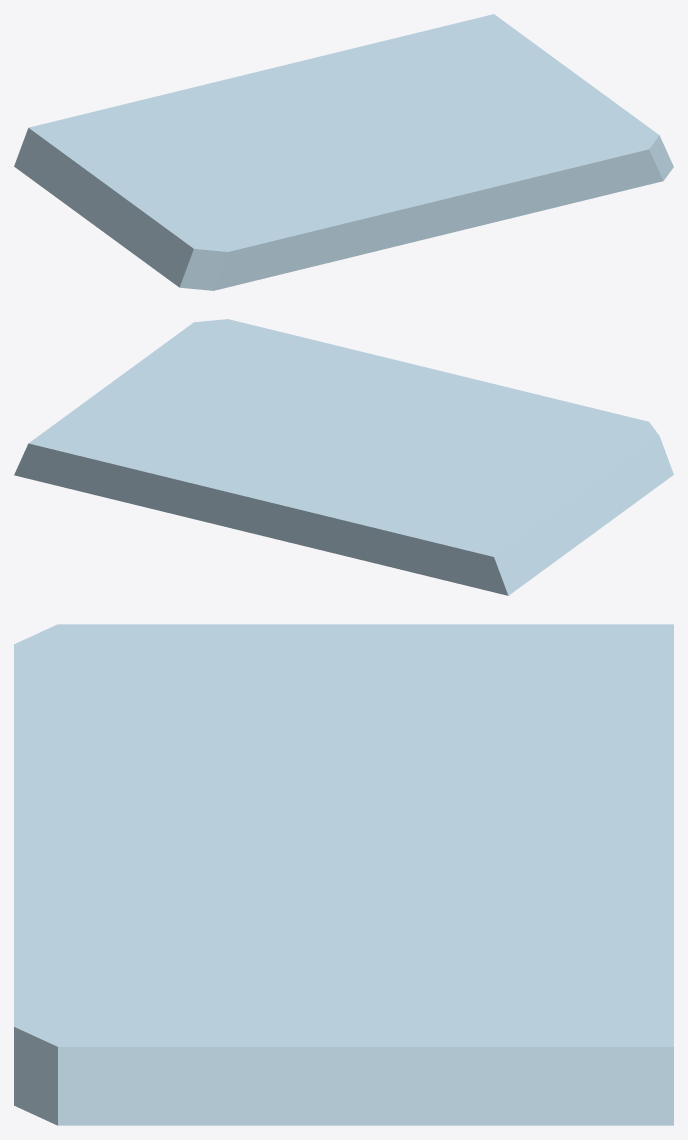
Rendered from STAM - A5.gltf.
3 renders of one model, top to bottom at view 1: azimuth 30°, elevation 25°; view 2: azimuth 150°, elevation 25°; view 3: azimuth 270°, elevation 25°, orthographic. The views are drawn at different scales.
Visible parts, largest first — view 1: A5; view 2: A5; view 3: A5.
Boxes of the visible parts, box(x1,y1,x2,y2) form: A5: box(14, 14, 673, 290); A5: box(14, 319, 673, 595); A5: box(14, 624, 673, 1125).
Bounding box in the file's own units: 0.0241 × 0.00165 × 0.015.
